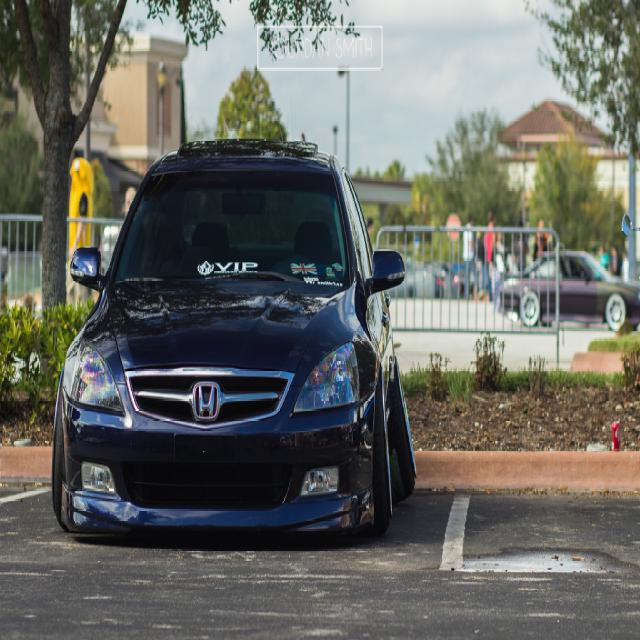car: (50, 140, 420, 522)
